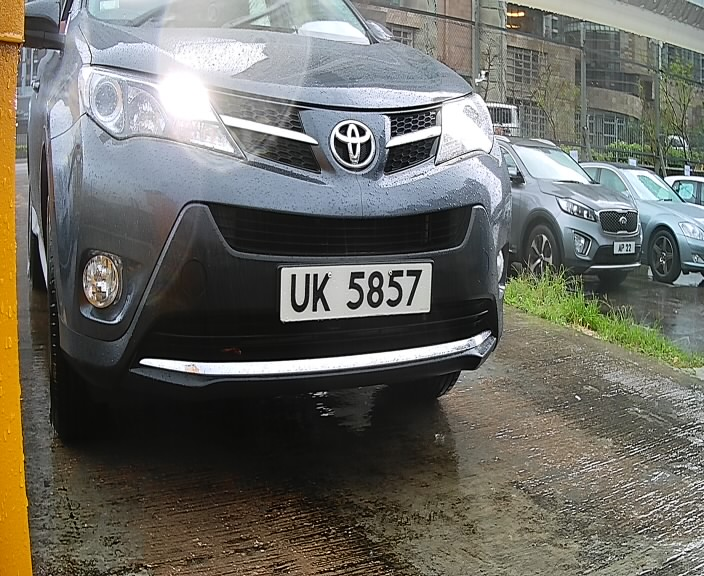Car: (13, 3, 526, 462)
License Plate: (265, 253, 447, 332)
